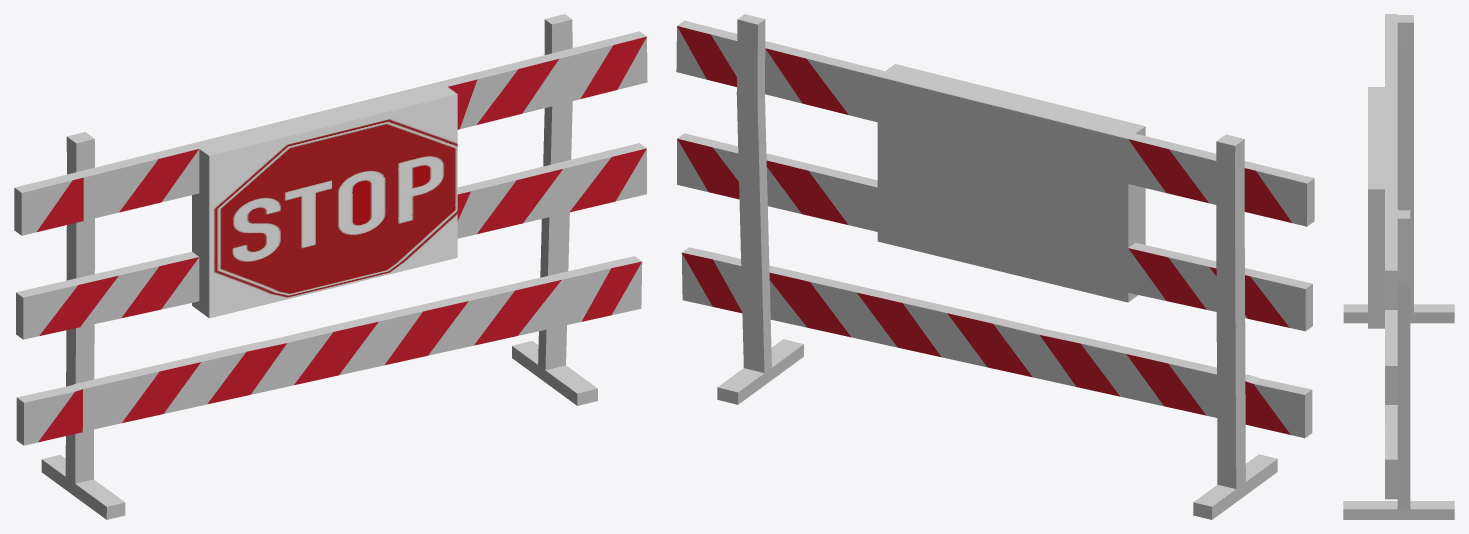
File: stopbordje.fbx
3 renders of one model, left to right at view 1: azimuth 30°, elevation 25°; view 2: azimuth 150°, elevation 25°; view 3: azimuth 270°, elevation 25°, orthographic. The views are drawn at different scales.
Visible parts, largest first — view 1: Cube; view 2: Cube; view 3: Cube.
Part boxes in pixels (x1,y1,x2,y2): Cube: (14,14,647,519); Cube: (676,14,1314,519); Cube: (1343,14,1454,519).
Size of the model in its own units: 903 by 492 by 164.
